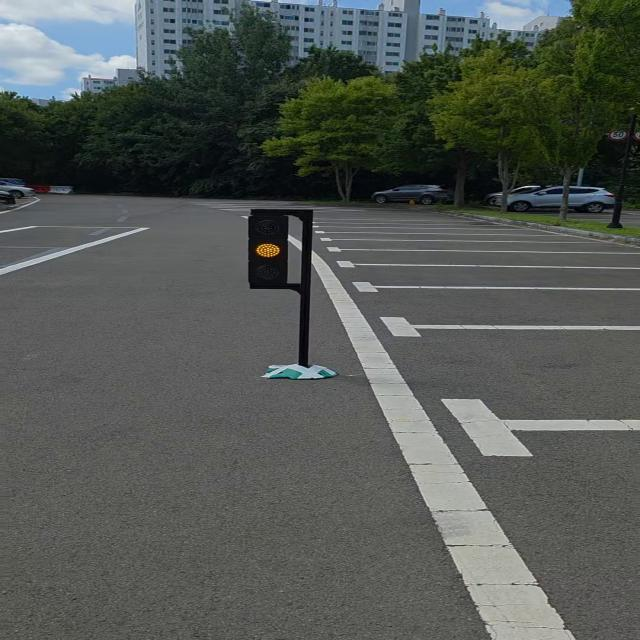yellow: (248, 209, 290, 292)
